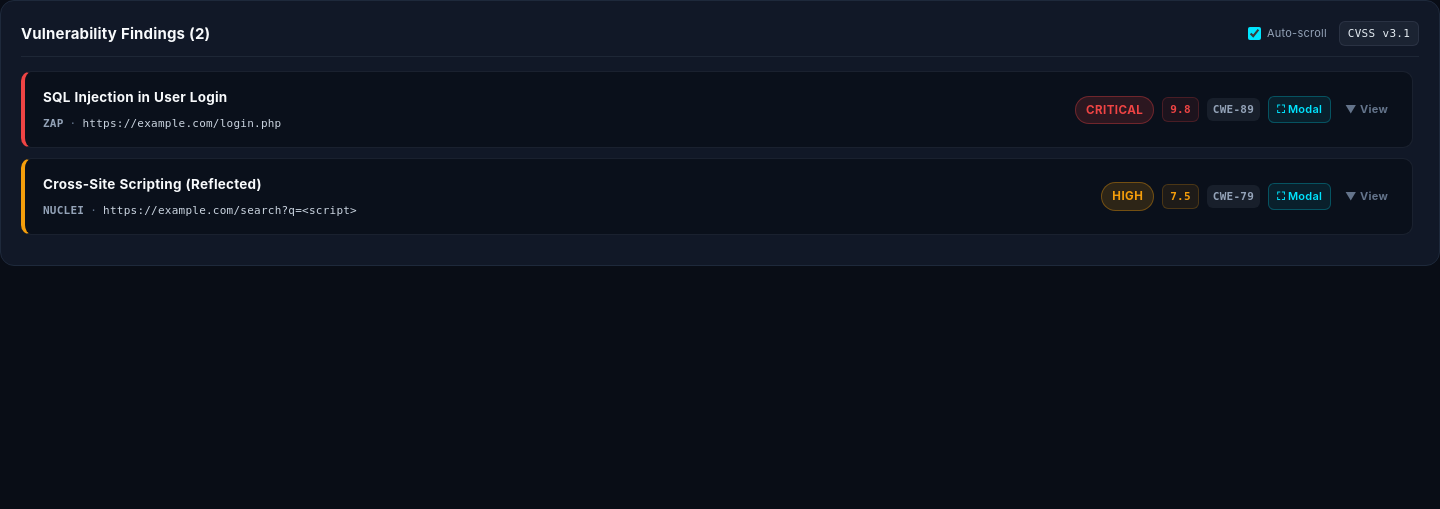
Scenario: VulnerabilityAccordion Component › expands accordion row to show detailed definition and remediation on click
Click on the first vulnerability item
Click the text "SQL Injection in User Login": coordinates (135, 98) [43, 86, 228, 110]
(page scrolled)
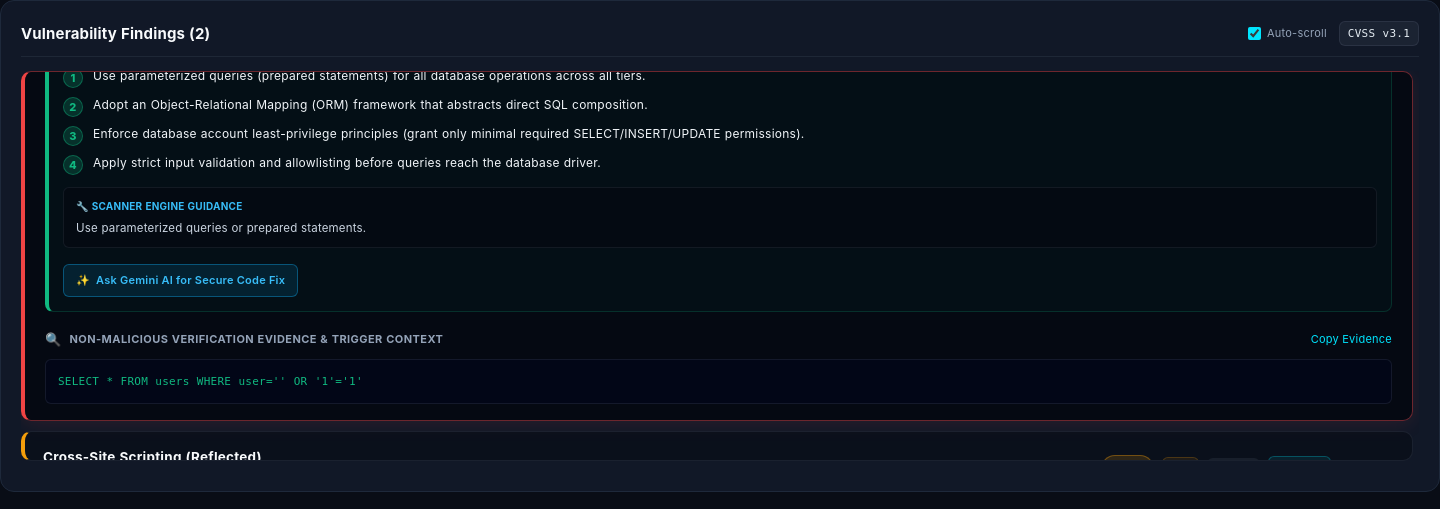
Expected: the text "Use parameterized queries or prepared statements." is shown, [76, 221, 366, 235]
Expected: the text "SELECT * FROM users WHERE user='' OR '1'='1'" is shown, [45, 359, 1392, 404]
